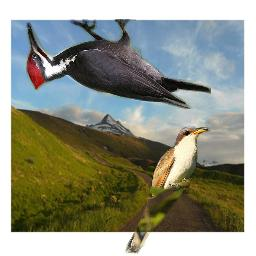Cuckoo: (124, 124, 211, 256)
Woodpecker: (26, 19, 211, 109)
